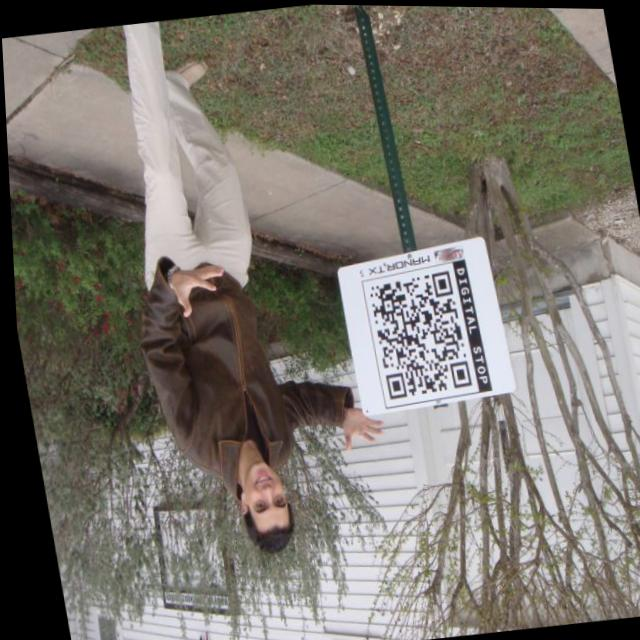qrcode: (364, 268, 468, 399)
